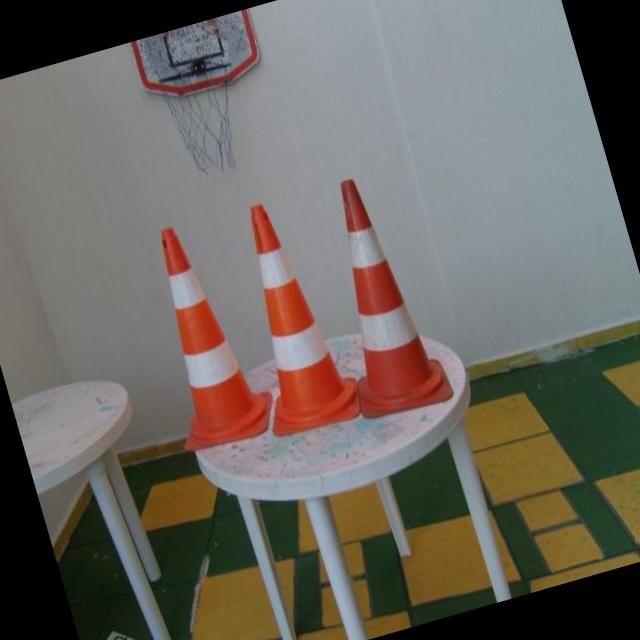cone: (131, 208, 265, 449), (315, 170, 451, 398), (223, 196, 350, 422)
